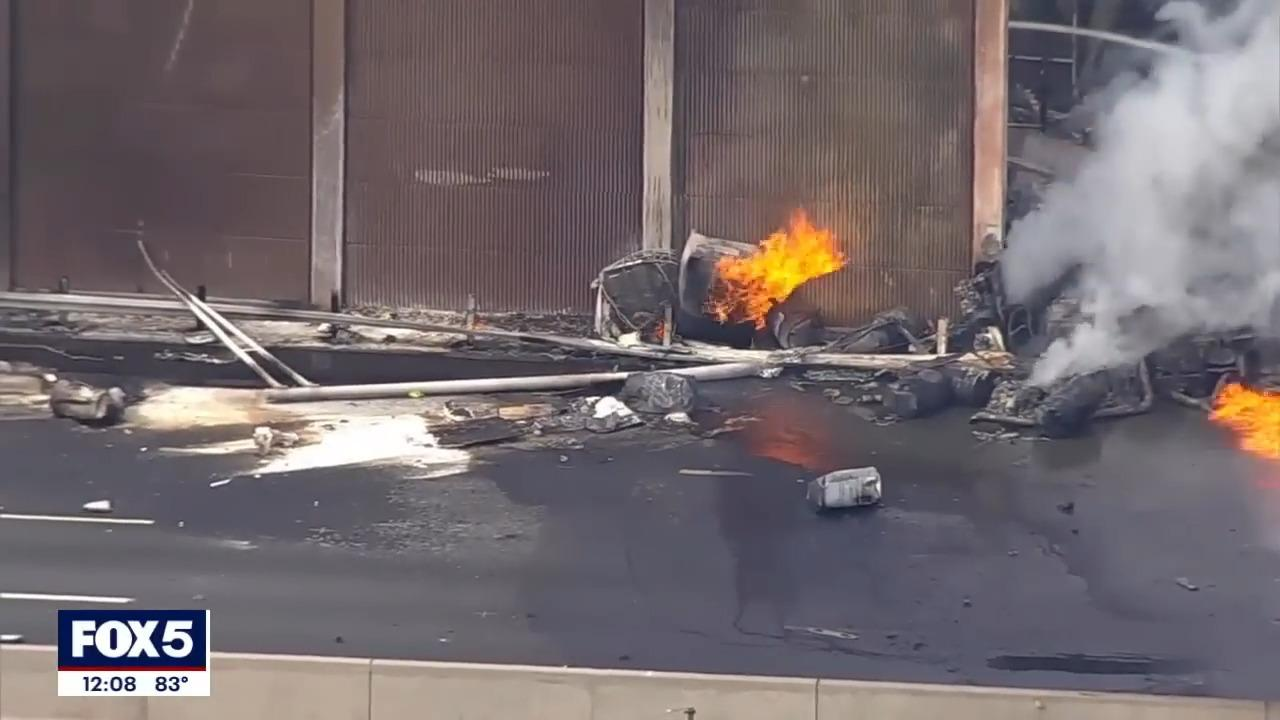fire: (711, 209, 840, 327)
